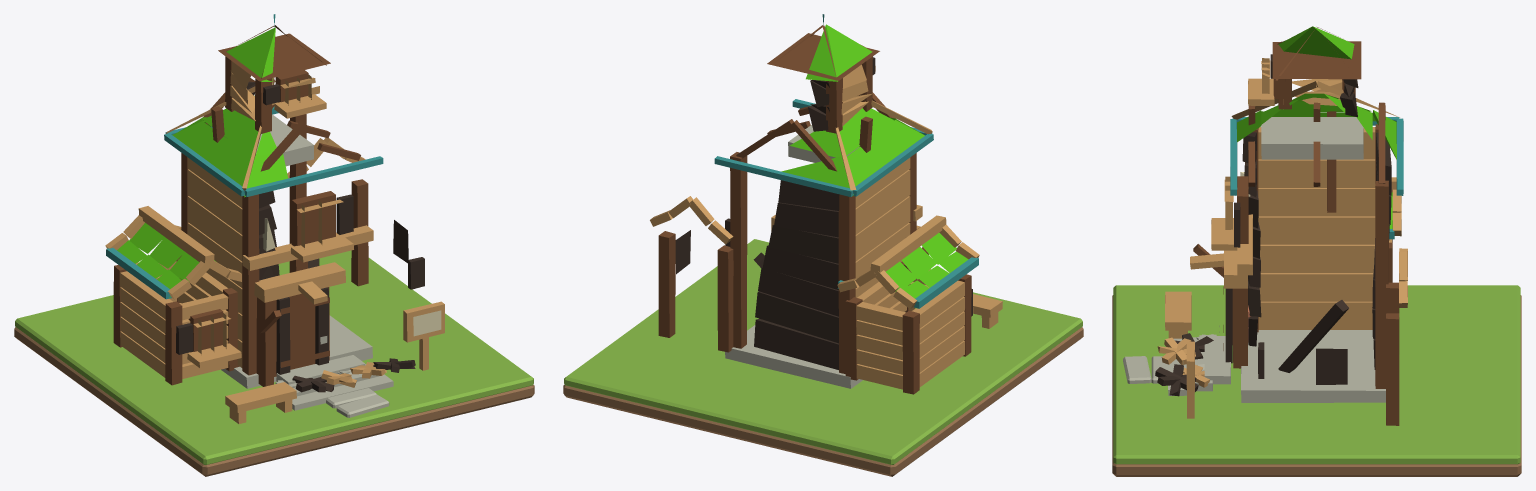
Rendered from town_hall_l05_damaged_LOD2.glb.
The picture shows the model from 3 angles, left to right: view 1: azimuth 30°, elevation 25°; view 2: azimuth 150°, elevation 25°; view 3: azimuth 270°, elevation 25°; orthographic projection. The views are drawn at different scales.
Visible parts, largest first — view 1: town_hall_l05_damaged_foundation.001, town_hall_l05_damaged_grass_tile.001, town_hall_l05_damaged_earth_tile.001, town_hall_l05_damaged_path_stone.005; view 2: town_hall_l05_damaged_foundation.001, town_hall_l05_damaged_grass_tile.001, town_hall_l05_damaged_earth_tile.001; view 3: town_hall_l05_damaged_foundation.001, town_hall_l05_damaged_grass_tile.001, town_hall_l05_damaged_earth_tile.001, town_hall_l05_damaged_path_stone.005.
Boxes of the visible parts, bbox=[...] form: town_hall_l05_damaged_foundation.001: bbox=[105, 14, 444, 423]; town_hall_l05_damaged_grass_tile.001: bbox=[15, 250, 533, 464]; town_hall_l05_damaged_earth_tile.001: bbox=[14, 327, 534, 476]; town_hall_l05_damaged_path_stone.005: bbox=[336, 394, 389, 417]; town_hall_l05_damaged_foundation.001: bbox=[650, 14, 1002, 394]; town_hall_l05_damaged_grass_tile.001: bbox=[564, 239, 1082, 464]; town_hall_l05_damaged_earth_tile.001: bbox=[563, 327, 1083, 476]; town_hall_l05_damaged_foundation.001: bbox=[1155, 26, 1407, 425]; town_hall_l05_damaged_grass_tile.001: bbox=[1113, 285, 1520, 464]; town_hall_l05_damaged_earth_tile.001: bbox=[1112, 295, 1521, 476]; town_hall_l05_damaged_path_stone.005: bbox=[1123, 356, 1151, 383].
Size of the model in its own units: 3.6 by 3.67 by 3.6.
